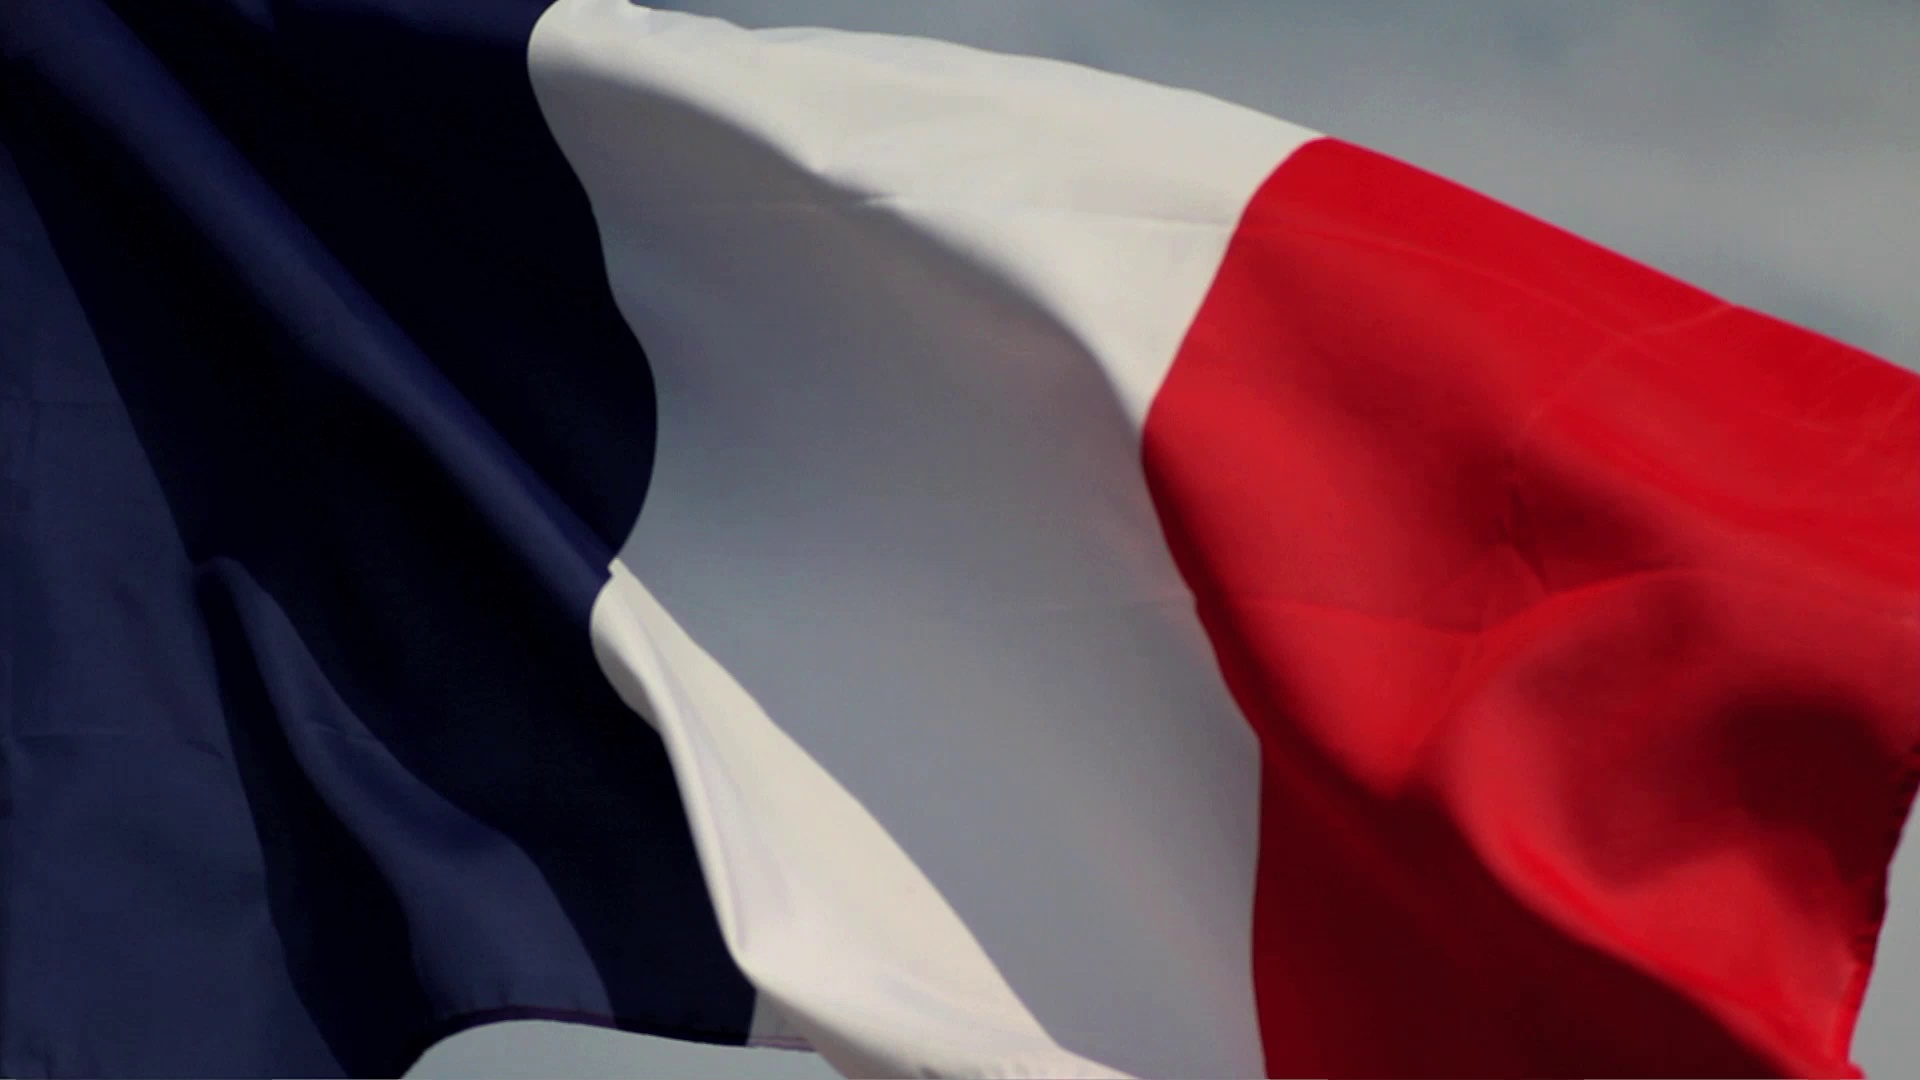French Flag: (1, 1, 1919, 1080)
